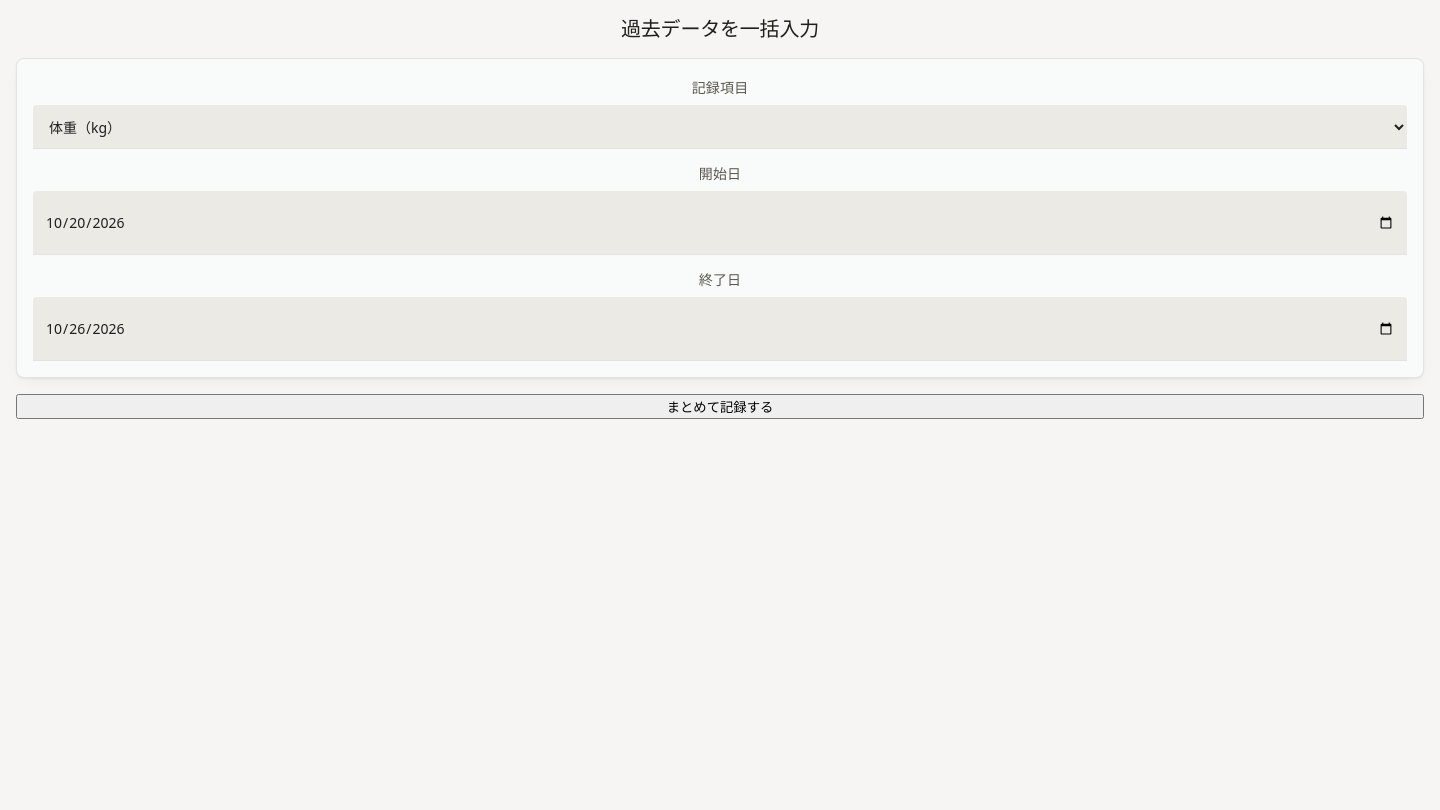
BulkEntryScreen › auto-selects the first metric and lists one row per day in the range, pre-filled from existing entries
Expected: the dropdown named "一括入力する記録項目" shows "体重（kg）", left=33, top=105, right=1407, bottom=149
Type "2026-07-01" into the date field named "一括入力の開始日".
click(720, 223); type("2026-07-01")  # box left=33, top=191, right=1407, bottom=255
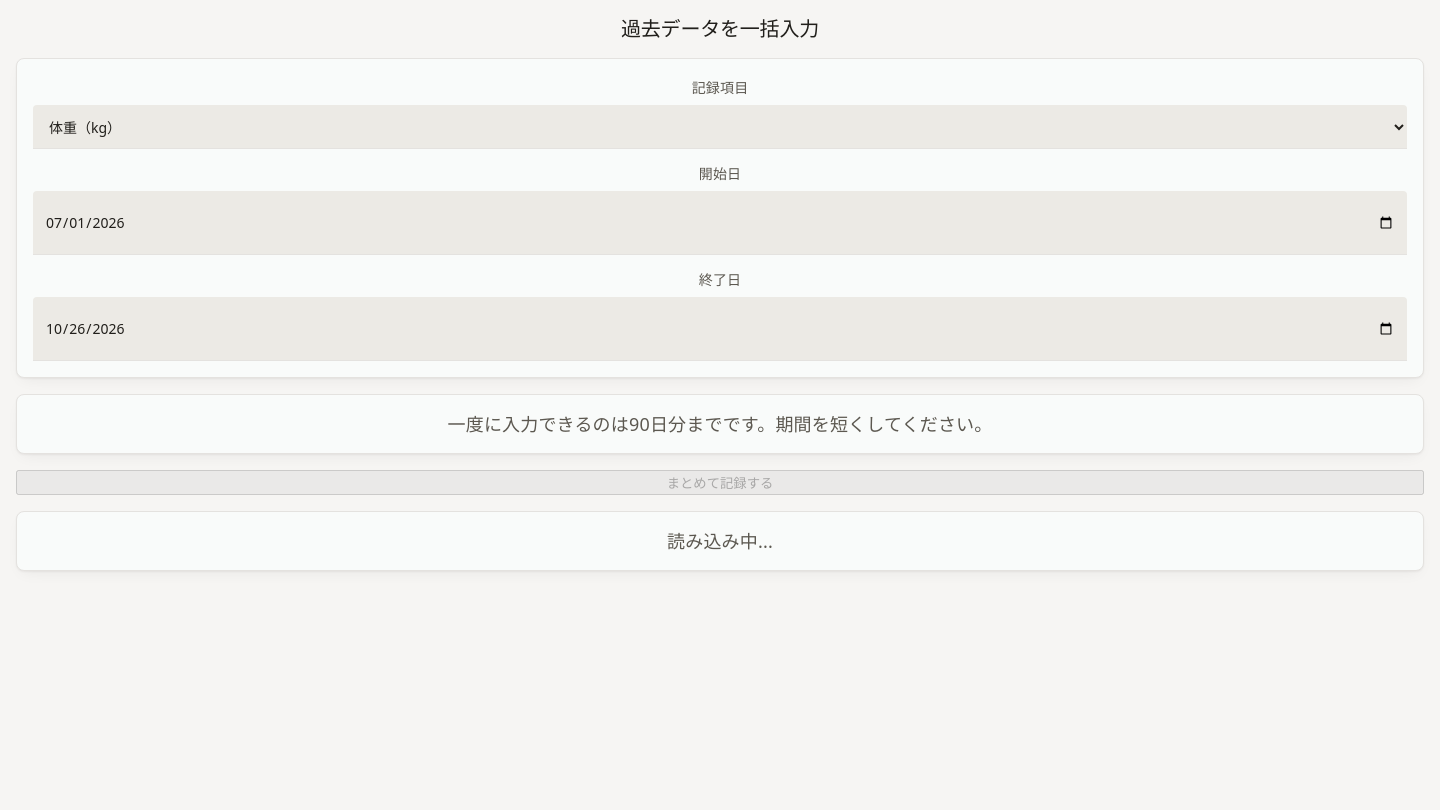
Type "2026-07-03" into the date field named "一括入力の終了日".
click(720, 329); type("2026-07-03")  # box left=33, top=297, right=1407, bottom=361
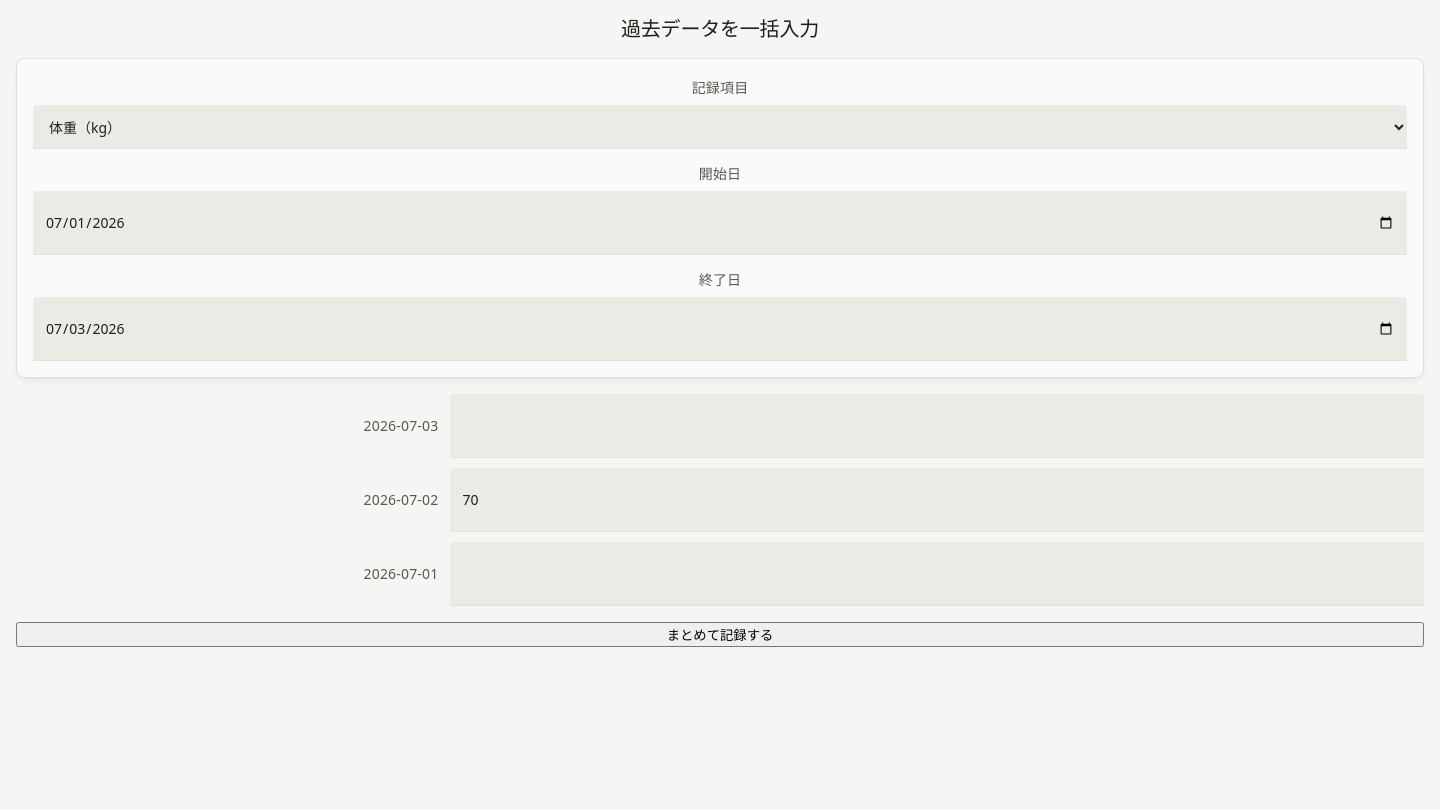
Expected: the number field named "2026-07-01 の記録" is not empty, left=450, top=542, right=1424, bottom=605
Now the number field named "2026-07-02 の記録" holds "70", box left=450, top=468, right=1424, bottom=531
